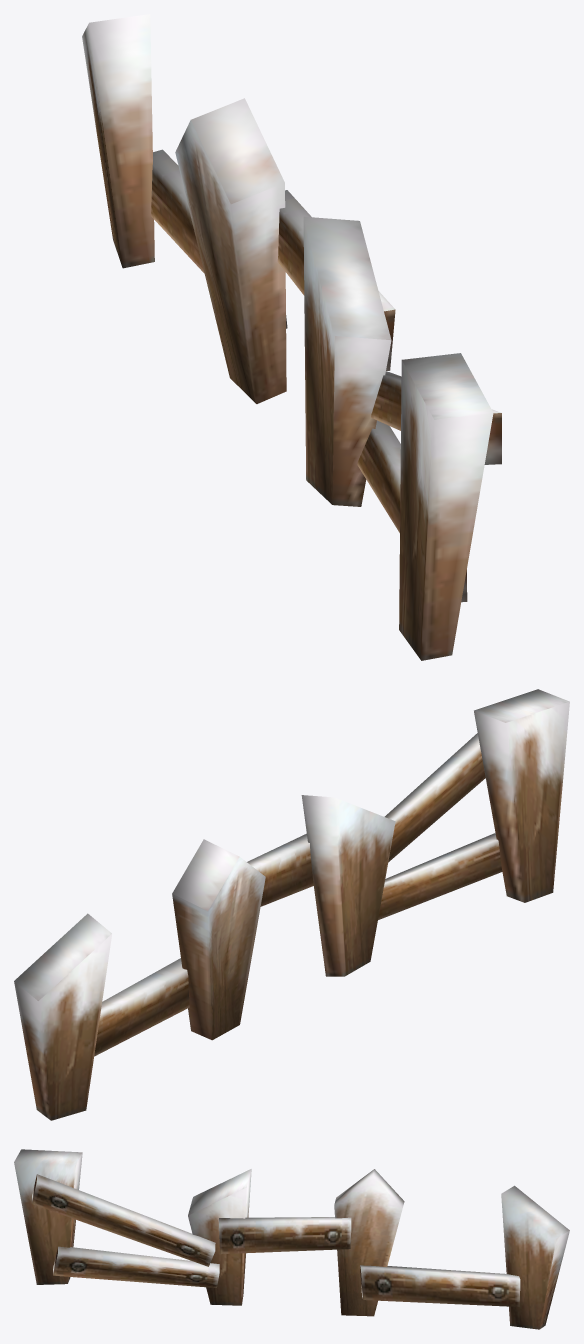
Rendered from SM_Enclosure_08.fbx.
The picture shows the model from 3 angles, top to bottom: view 1: azimuth 30°, elevation 25°; view 2: azimuth 150°, elevation 25°; view 3: azimuth 270°, elevation 25°; orthographic projection. The views are drawn at different scales.
Visible parts, largest first — view 1: SM_Enclosure_08; view 2: SM_Enclosure_08; view 3: SM_Enclosure_08.
Part boxes in pixels (x1,y1,x2,y2): SM_Enclosure_08: (82, 14, 501, 660); SM_Enclosure_08: (14, 689, 569, 1120); SM_Enclosure_08: (14, 1149, 569, 1329).
Size of the model in its own units: 0.9871 by 1.08 by 3.89.
